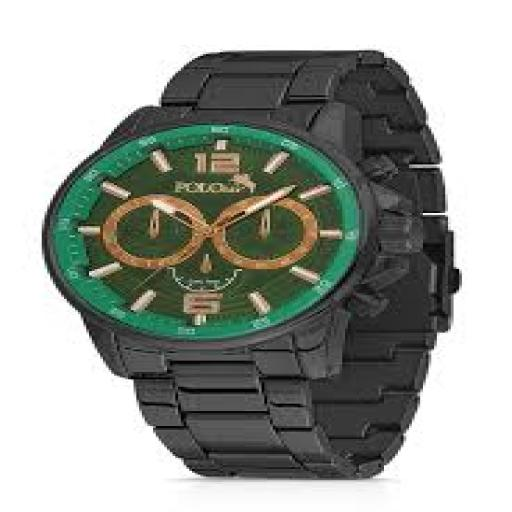KolSaati: (30, 25, 495, 487)
